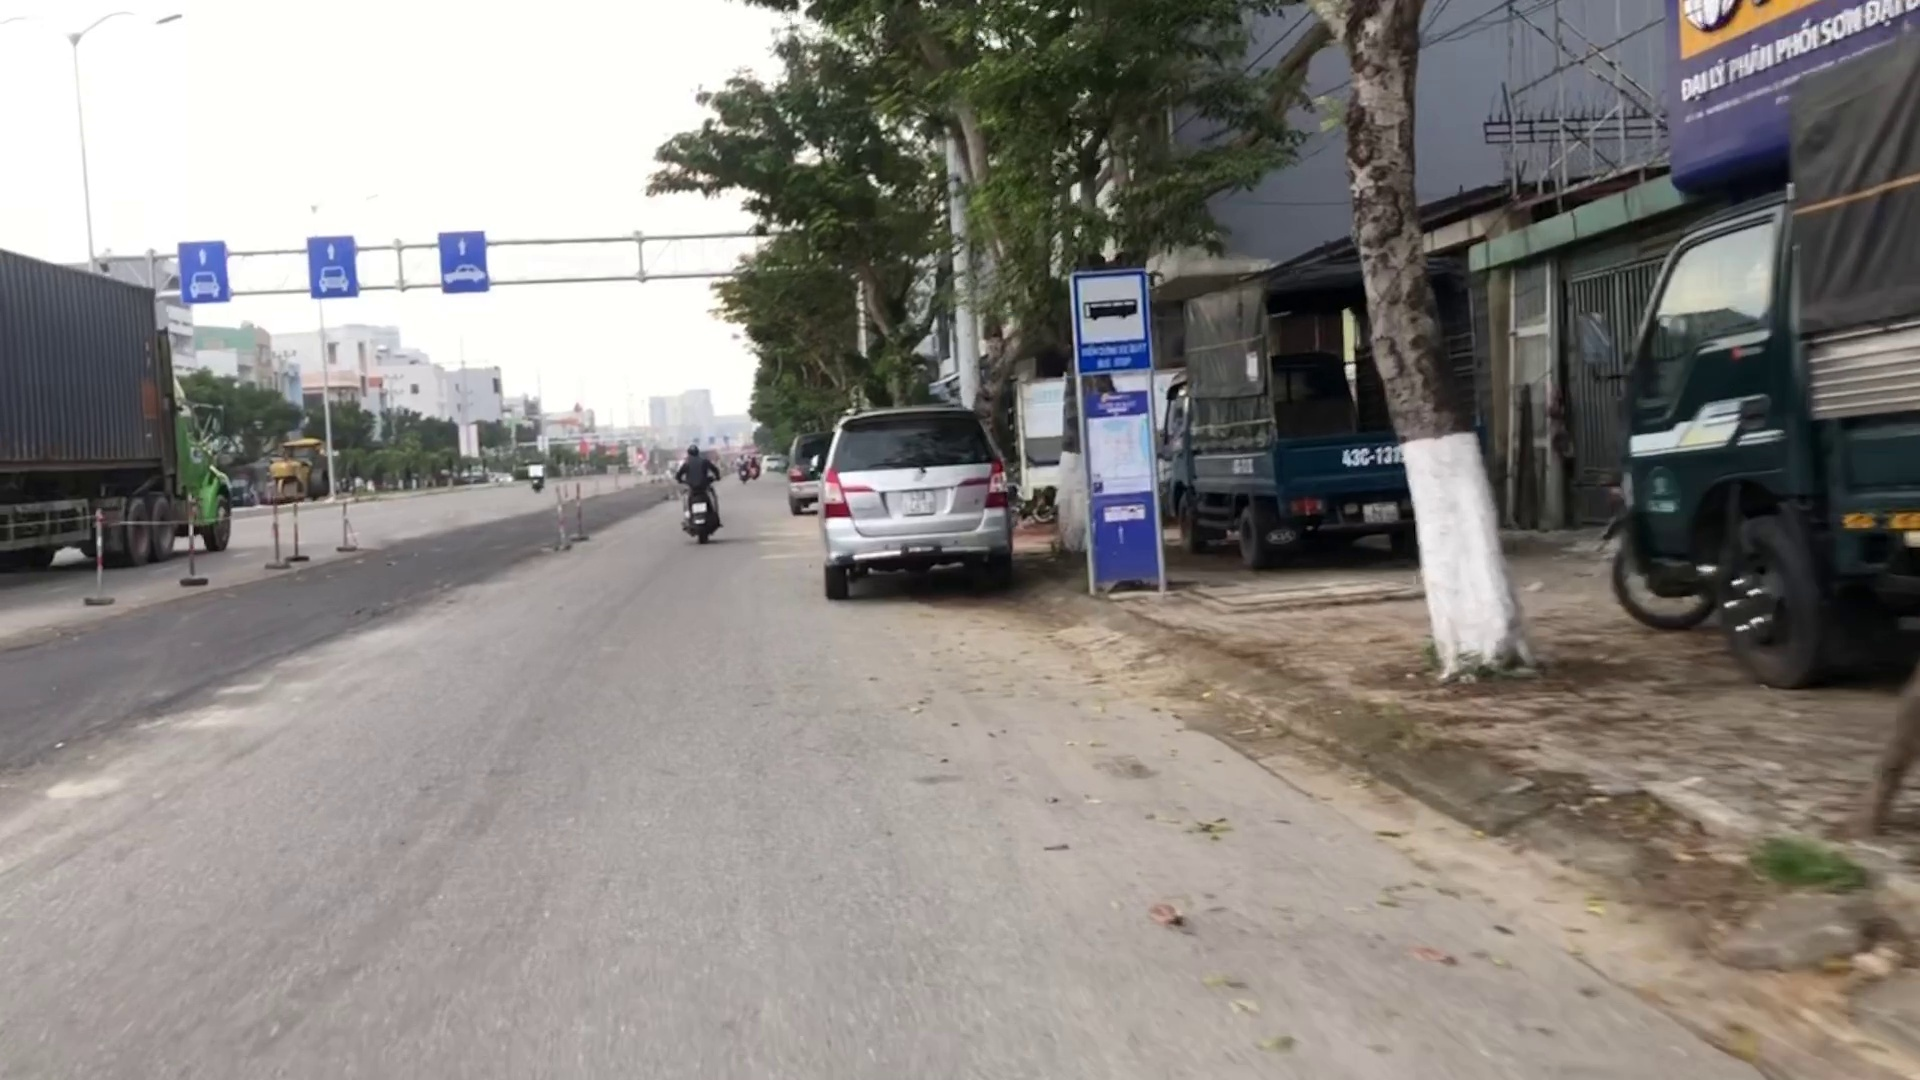Bien khac: (1069, 266, 1150, 371)
